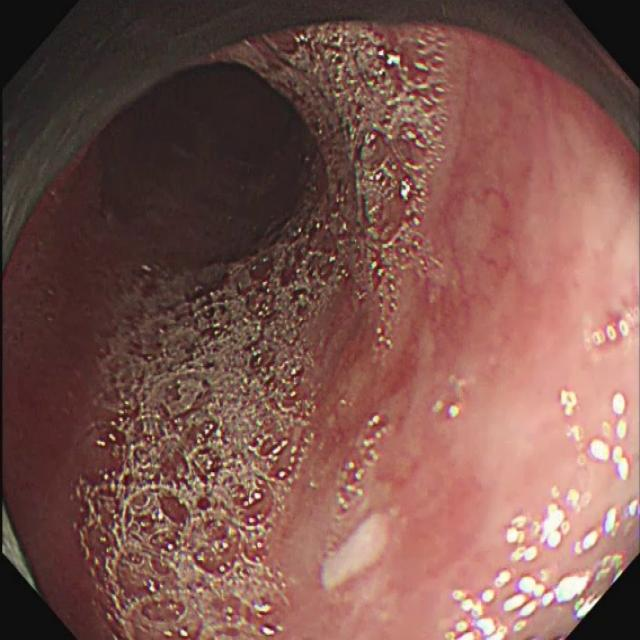E: (87, 64, 313, 265)
T: (69, 237, 345, 640), (281, 22, 451, 356), (334, 413, 393, 520)
U: (447, 494, 560, 640), (560, 388, 640, 556), (559, 551, 626, 619), (586, 300, 640, 355), (431, 379, 467, 422)
